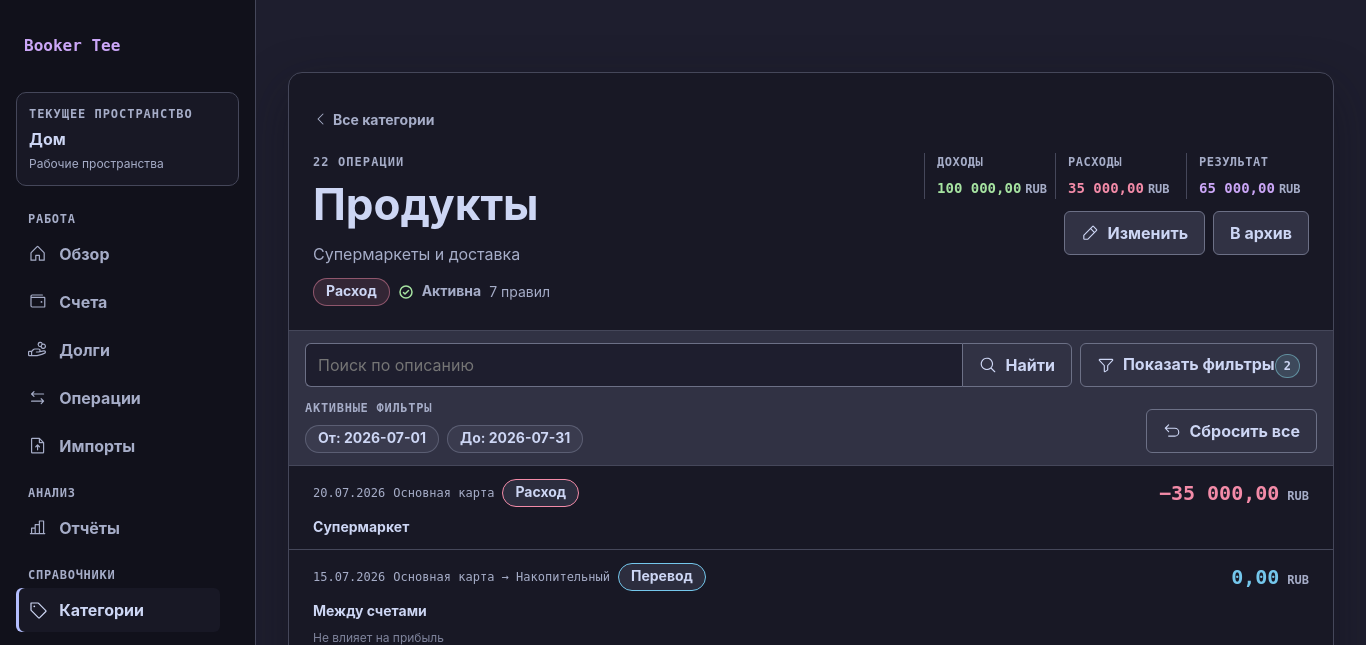
Scenario: CategoryDetailPage › preserves the draft while reloading after an update conflict
The image size is (1366, 645).
Click the button "Изменить".
click(1135, 233)  # box [1064,211,1205,255]
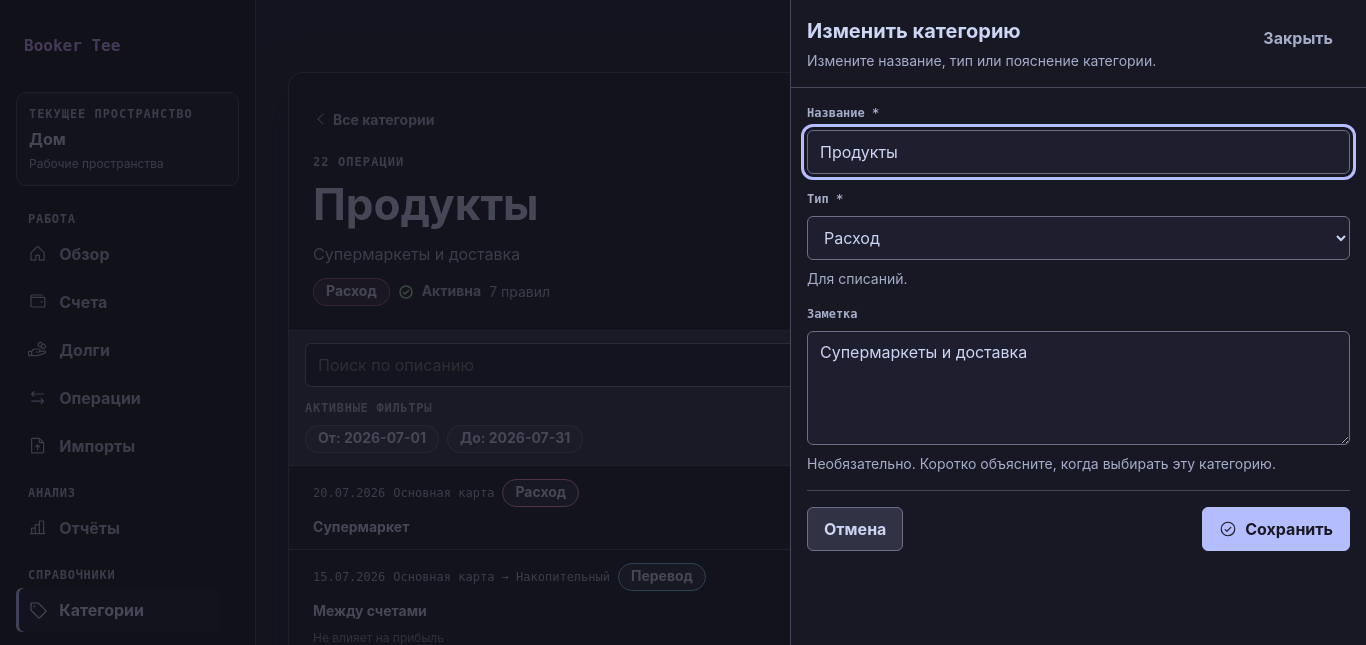
Replace the text in the field labelled "Название *" with "Мой draft" at (1078, 152), box [807,130,1350,174]
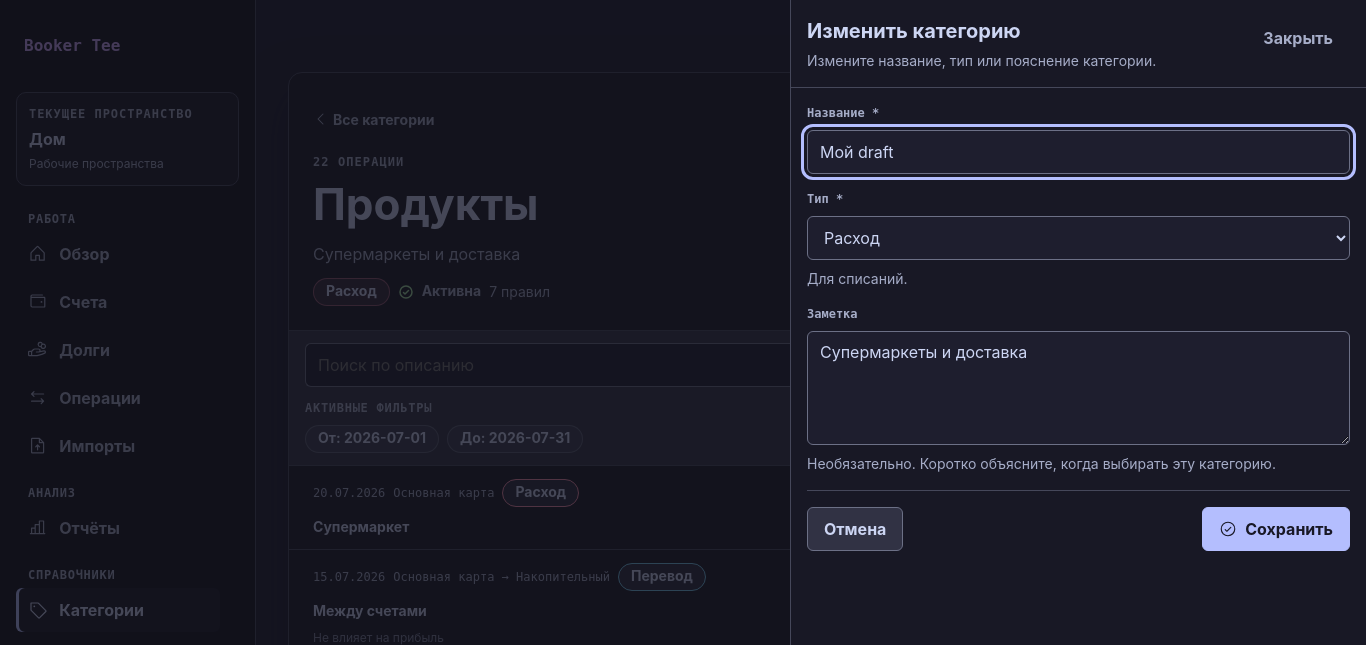
Click the button "Сохранить".
click(1276, 529)  # box [1202,507,1350,551]
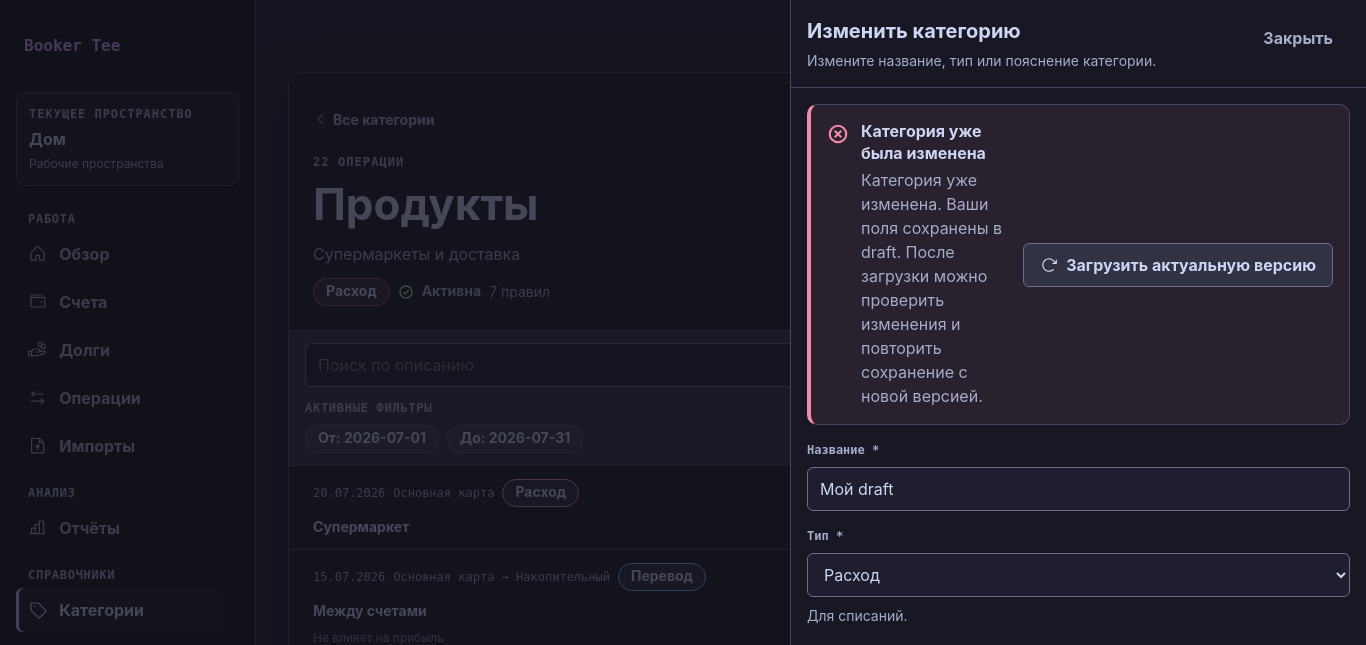
Result: the text "Категория уже была изменена" is shown at [861,121,986,163]
Click the button "Загрузить актуальную версию".
click(1178, 265)  # box [1023,243,1333,287]
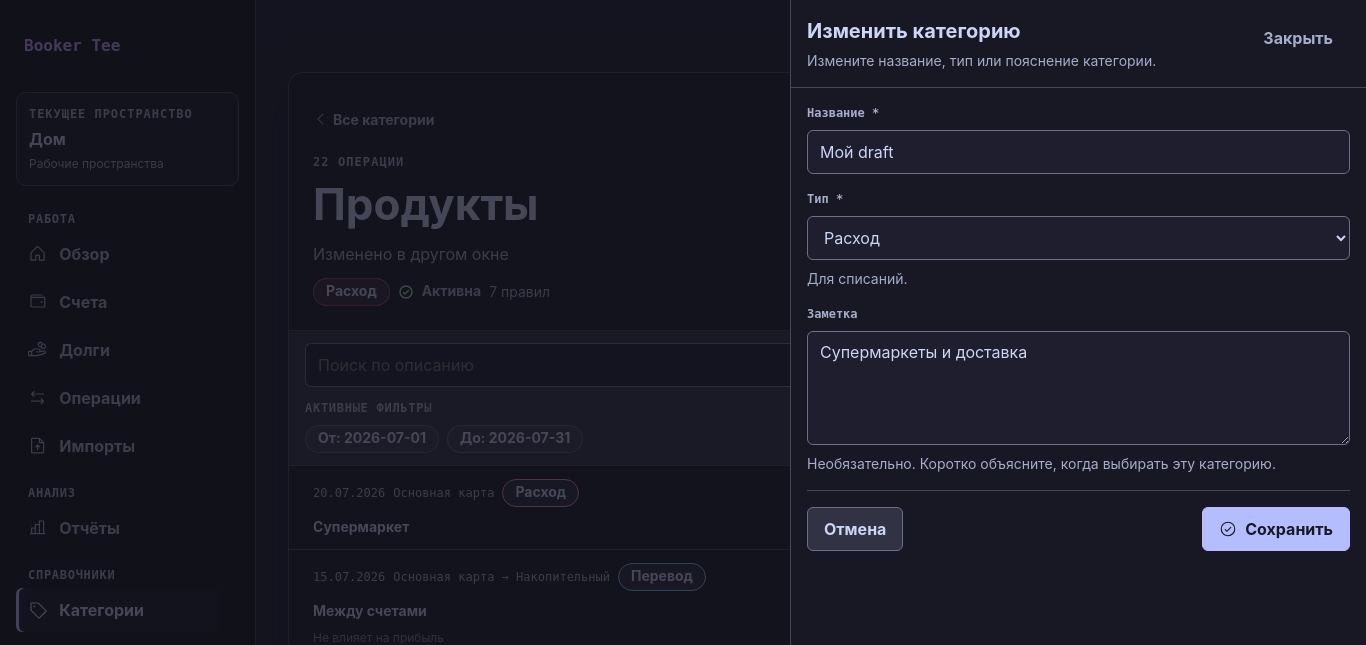
Click the button "Сохранить".
click(1276, 529)  # box [1202,507,1350,551]
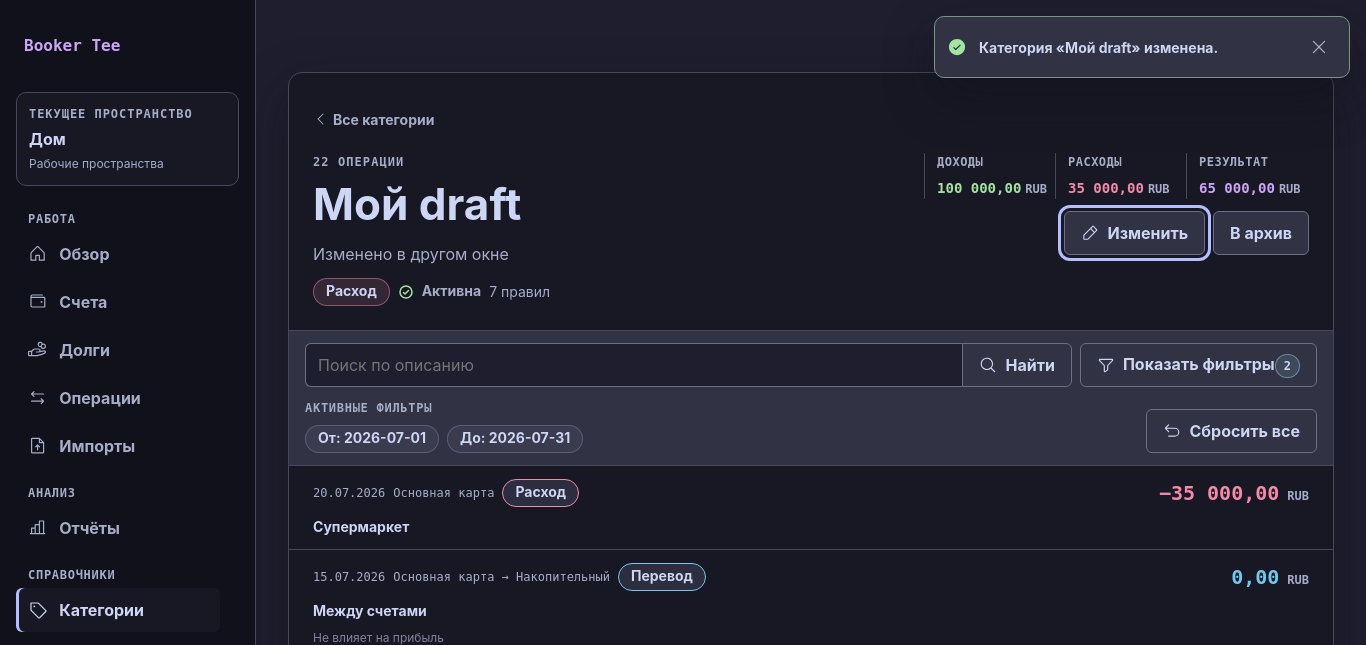
Result: the heading "Мой draft" is shown at [313,179,521,230]
